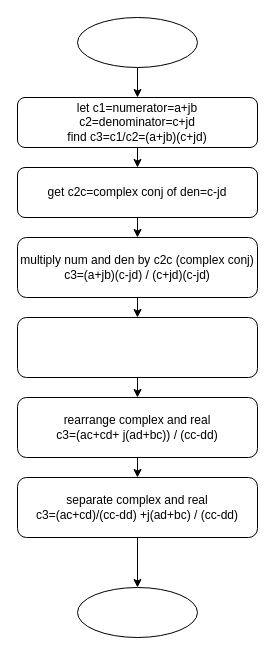
This 275x655 diagram has some shape labels left out. Here are the shapes that lost their labels. From the top down, the centre of each, then its label:
At (x=137, y=42): "Start".
At (x=137, y=347): "expand brackets c3=(ac+jad+jbc+cd) / (cc-dd)".
At (x=137, y=612): "Stop".
